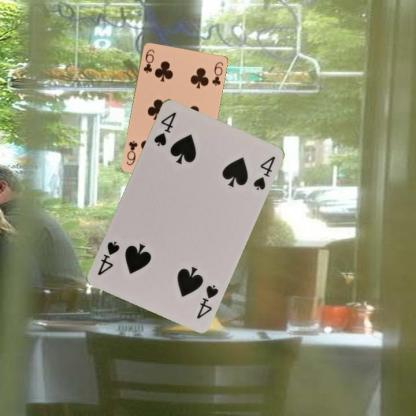4s: (150, 109, 178, 147), (194, 281, 220, 320)
6c: (140, 46, 156, 74)
